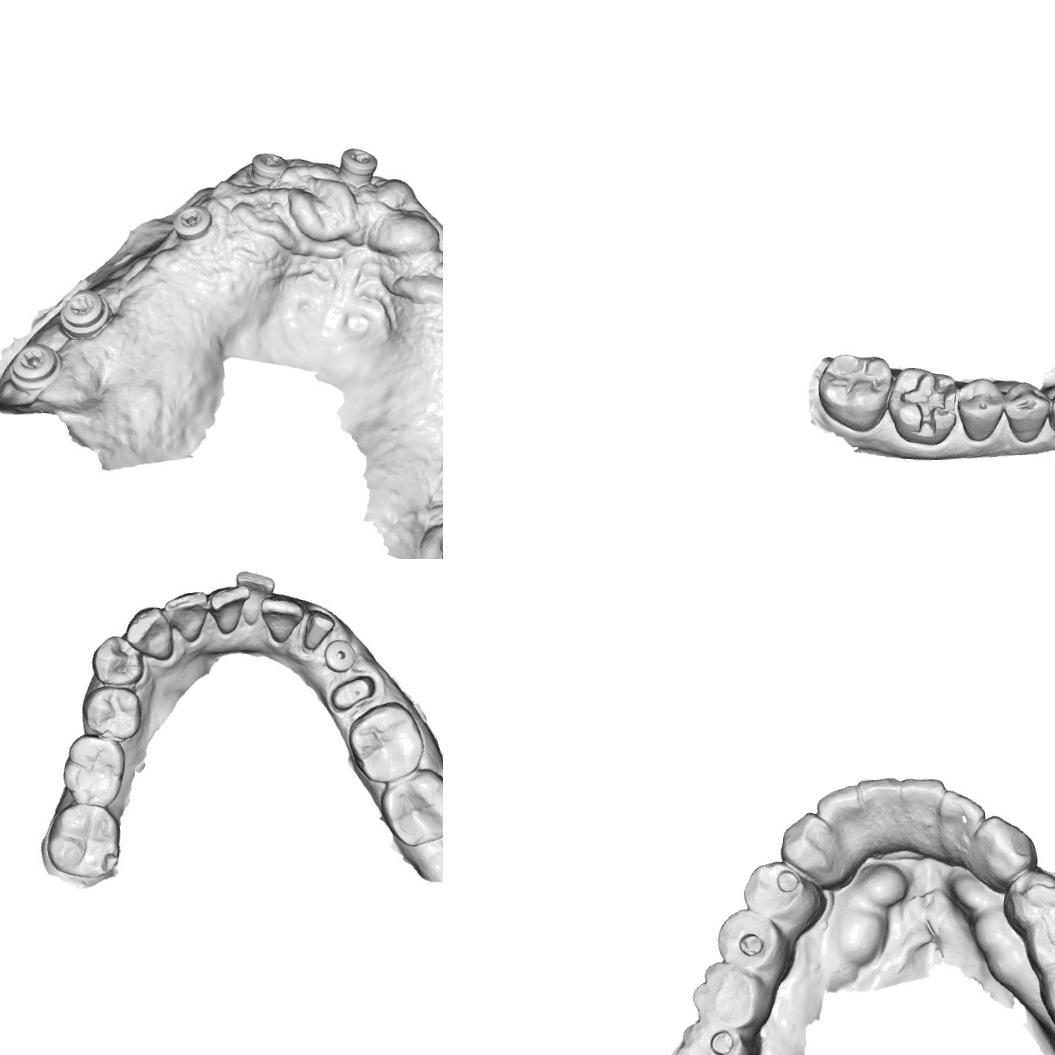canine: (967, 813, 1040, 895), (776, 812, 850, 890), (122, 604, 177, 663)
crown: (328, 670, 377, 716), (300, 608, 338, 654)
implant: (322, 638, 358, 674)
implant_plus: (56, 286, 114, 337), (336, 144, 380, 186), (170, 201, 213, 242), (10, 344, 52, 384), (250, 148, 290, 180)
incisor: (892, 776, 947, 853), (814, 778, 864, 852), (854, 774, 902, 850), (938, 786, 986, 854), (232, 568, 278, 628), (257, 588, 303, 648), (162, 588, 210, 644), (208, 582, 250, 637)
inlay: (896, 370, 958, 437)
molar: (346, 699, 426, 786), (816, 350, 894, 432), (44, 802, 124, 880), (373, 765, 443, 848), (687, 960, 768, 1029), (59, 730, 129, 809), (671, 1018, 756, 1055), (1037, 956, 1055, 1029)
premolar: (740, 858, 821, 930), (713, 909, 791, 973), (78, 686, 146, 741), (954, 374, 1006, 444), (1000, 866, 1055, 930), (1000, 380, 1054, 445), (90, 632, 146, 688), (1023, 902, 1055, 968)
